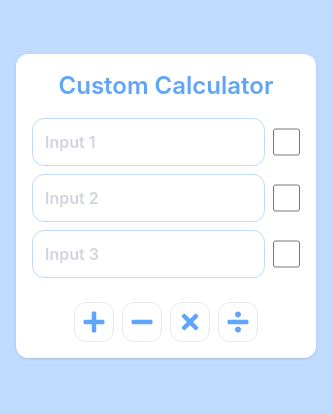
Test: Home › operator add › shows correct result when input 1 2 is filled and add is clicked
Type "1" into the number field with placeholder "Input 1" at (148,142), box [32,118,265,166]
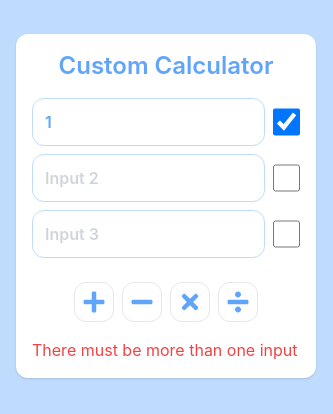
Type "2" into the number field with placeholder "Input 2" at (148,178), box [32,154,265,202]
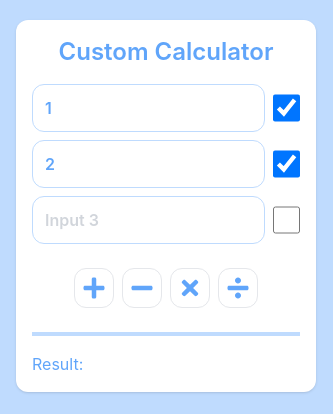
Click the icon with test id "add" at (94,288), box [82,276,106,300]
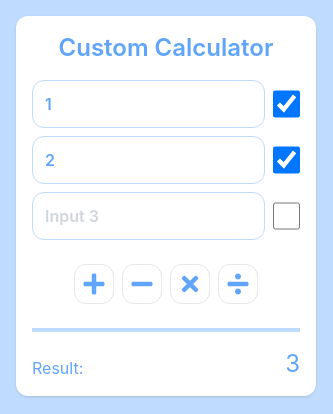
Now the text "Result:" is shown, box [32,356,83,380]
Now the text "3" is shown, box [285,348,300,380]
